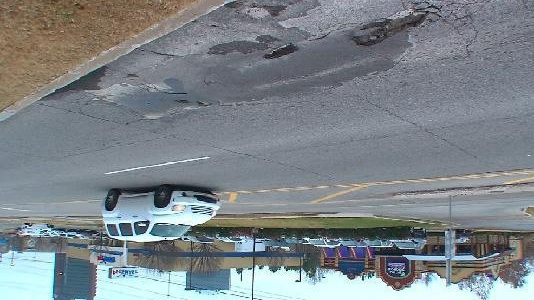pothole: (350, 7, 430, 48), (261, 44, 298, 63), (194, 99, 211, 111), (172, 97, 189, 106)
